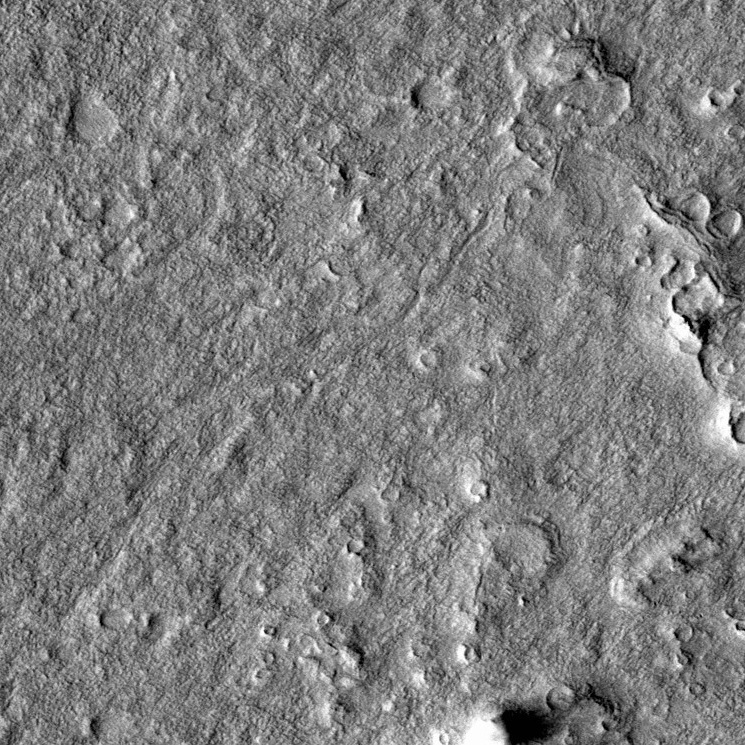dust_devil: (458, 695, 570, 745)
